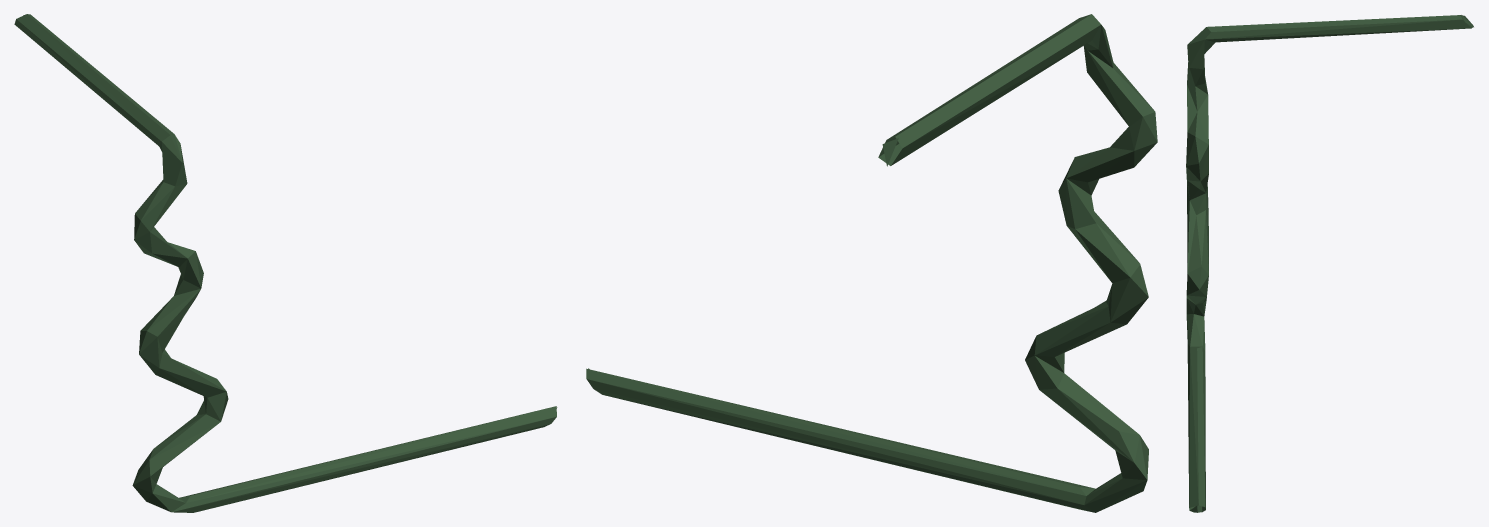
Rendered from vine.fbx.
3 renders of one model, left to right at view 1: azimuth 30°, elevation 25°; view 2: azimuth 150°, elevation 25°; view 3: azimuth 270°, elevation 25°, orthographic. The views are drawn at different scales.
Visible parts, largest first — view 1: Sweep; view 2: Sweep; view 3: Sweep.
Part boxes in pixels (bbox=[...]): Sweep: bbox=[14, 14, 556, 512]; Sweep: bbox=[586, 14, 1157, 512]; Sweep: bbox=[1186, 15, 1473, 512].
Size of the model in its own units: 4927 by 4344 by 3320.
